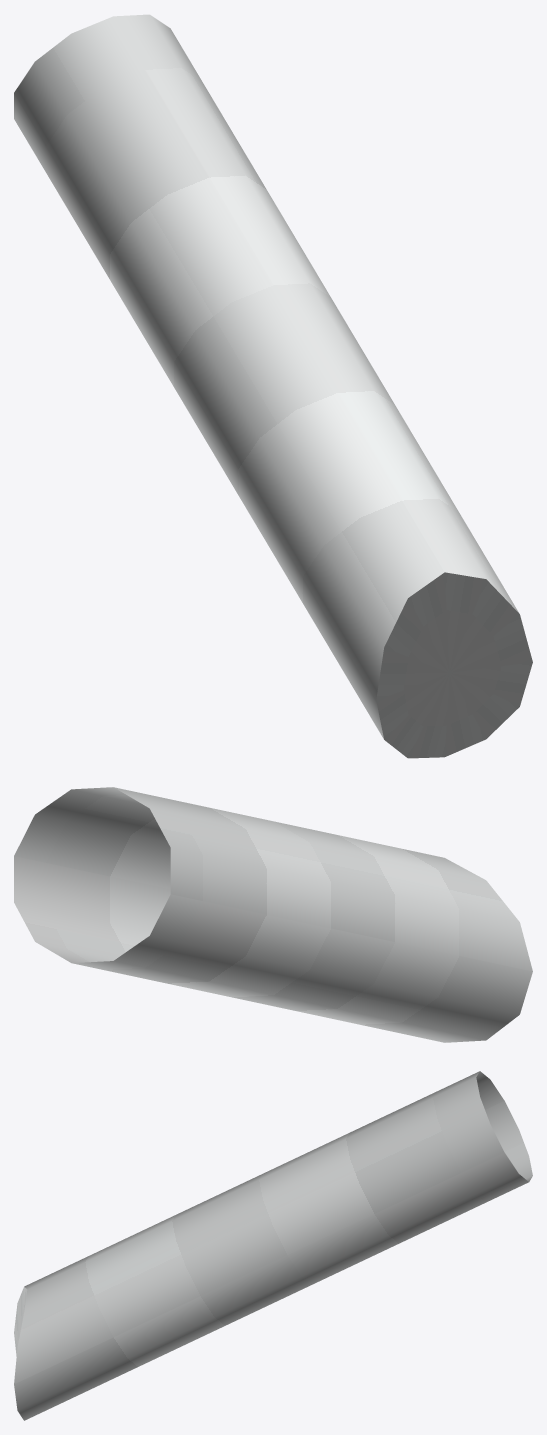
File: luminairearm_truss15ftdouble_c1_pedestal.obj
3 views of the same model, one above another, from view 1: azimuth 30°, elevation 25°; view 2: azimuth 150°, elevation 25°; view 3: azimuth 270°, elevation 25° (orthographic). The views are drawn at different scales.
Visible parts, largest first — view 1: luminairearm_truss15ftdouble_c1_pedestal; view 2: luminairearm_truss15ftdouble_c1_pedestal; view 3: luminairearm_truss15ftdouble_c1_pedestal.
Boxes of the visible parts, x1,y1,x2,y2 form: luminairearm_truss15ftdouble_c1_pedestal: (14, 14, 532, 758); luminairearm_truss15ftdouble_c1_pedestal: (14, 787, 532, 1042); luminairearm_truss15ftdouble_c1_pedestal: (14, 1071, 532, 1420).
Size of the model in its own units: 0.1562 by 0.4747 by 0.6616.
